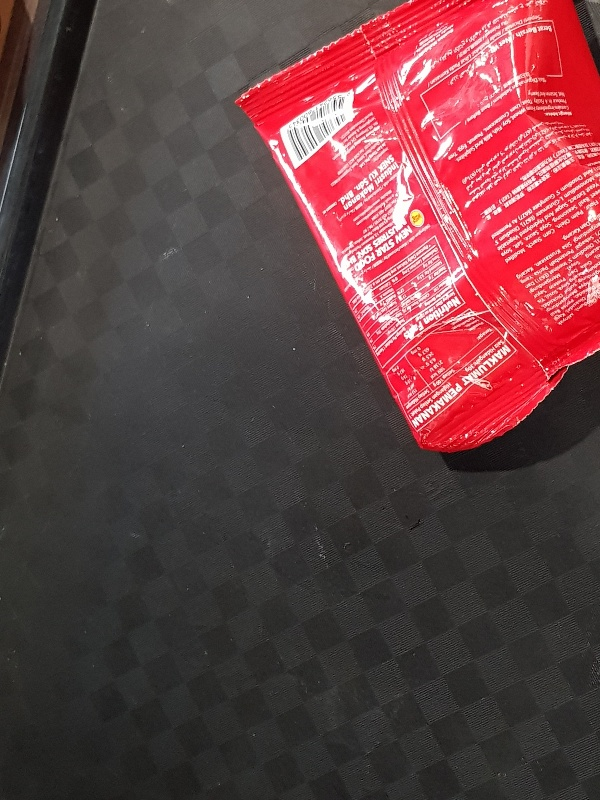ShoyueMi Spicy Flavoured Snacks: (234, 1, 600, 455)
